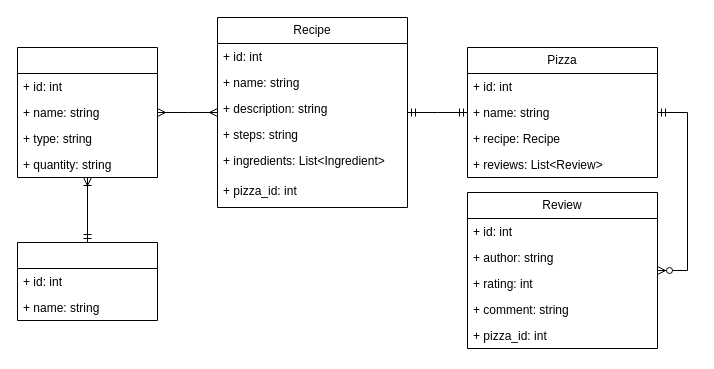
Some shapes in this 714 by 369 pixel diagram are drawn without their labels. The box of each missing label's shape, as (x1, y1, x2, y2) in pixels:
Category: (16, 242, 158, 320)
Ingredient: (16, 46, 158, 178)
